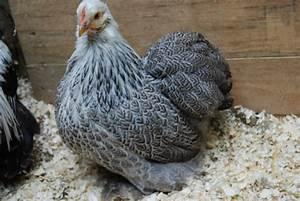hen: (53, 0, 234, 194), (0, 0, 40, 188)
